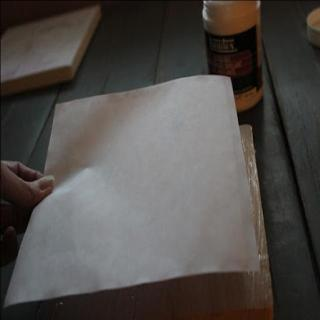Anorganik: (23, 77, 259, 300)
